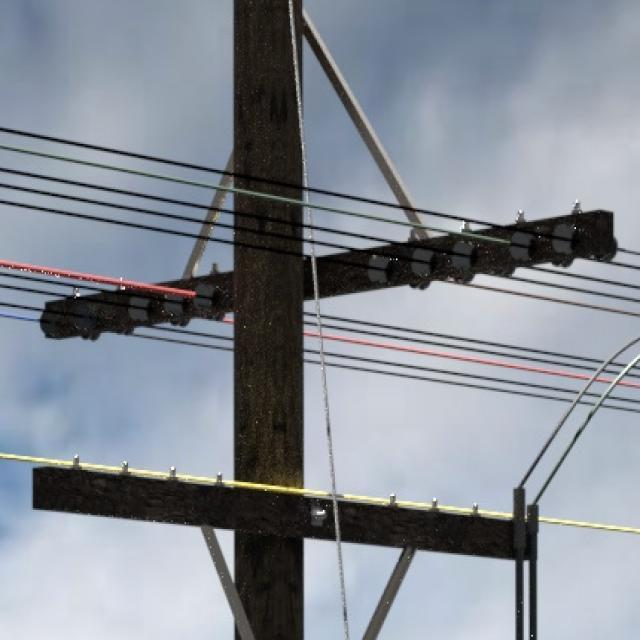crossarm: (39, 210, 619, 342), (10, 460, 534, 562)
pole: (234, 0, 304, 640)
